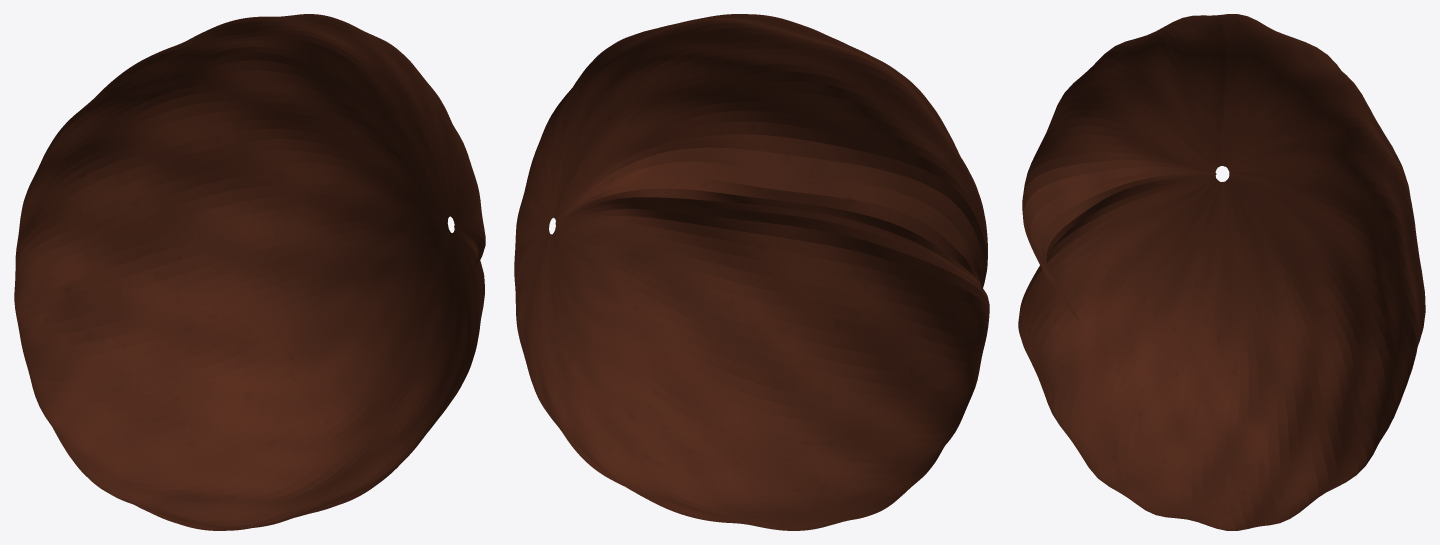
The model's file is robusta.glb.
3 views of the same model, side by side, from view 1: azimuth 30°, elevation 25°; view 2: azimuth 150°, elevation 25°; view 3: azimuth 270°, elevation 25° (orthographic). The views are drawn at different scales.
Parts seen in each view (by area): view 1: world; view 2: world; view 3: world.
Boxes of the visible parts, x1=… form: world: x1=14, y1=14, x2=485, y2=530; world: x1=514, y1=14, x2=989, y2=530; world: x1=1018, y1=14, x2=1425, y2=530.
Size of the model in its own units: 0.9299 by 1.05 by 0.8323.
Materials: 1 (1 with a texture image).
